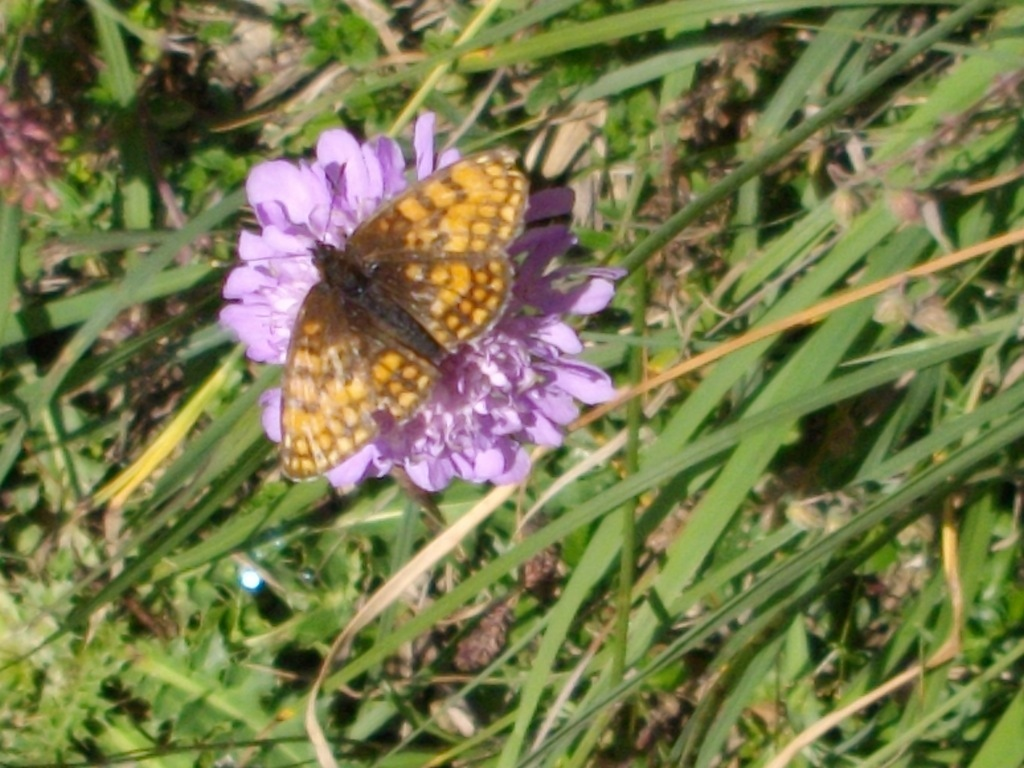Butterfly: (198, 97, 656, 522)
